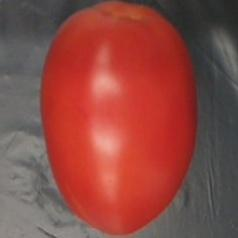unripe: (35, 1, 205, 238)
